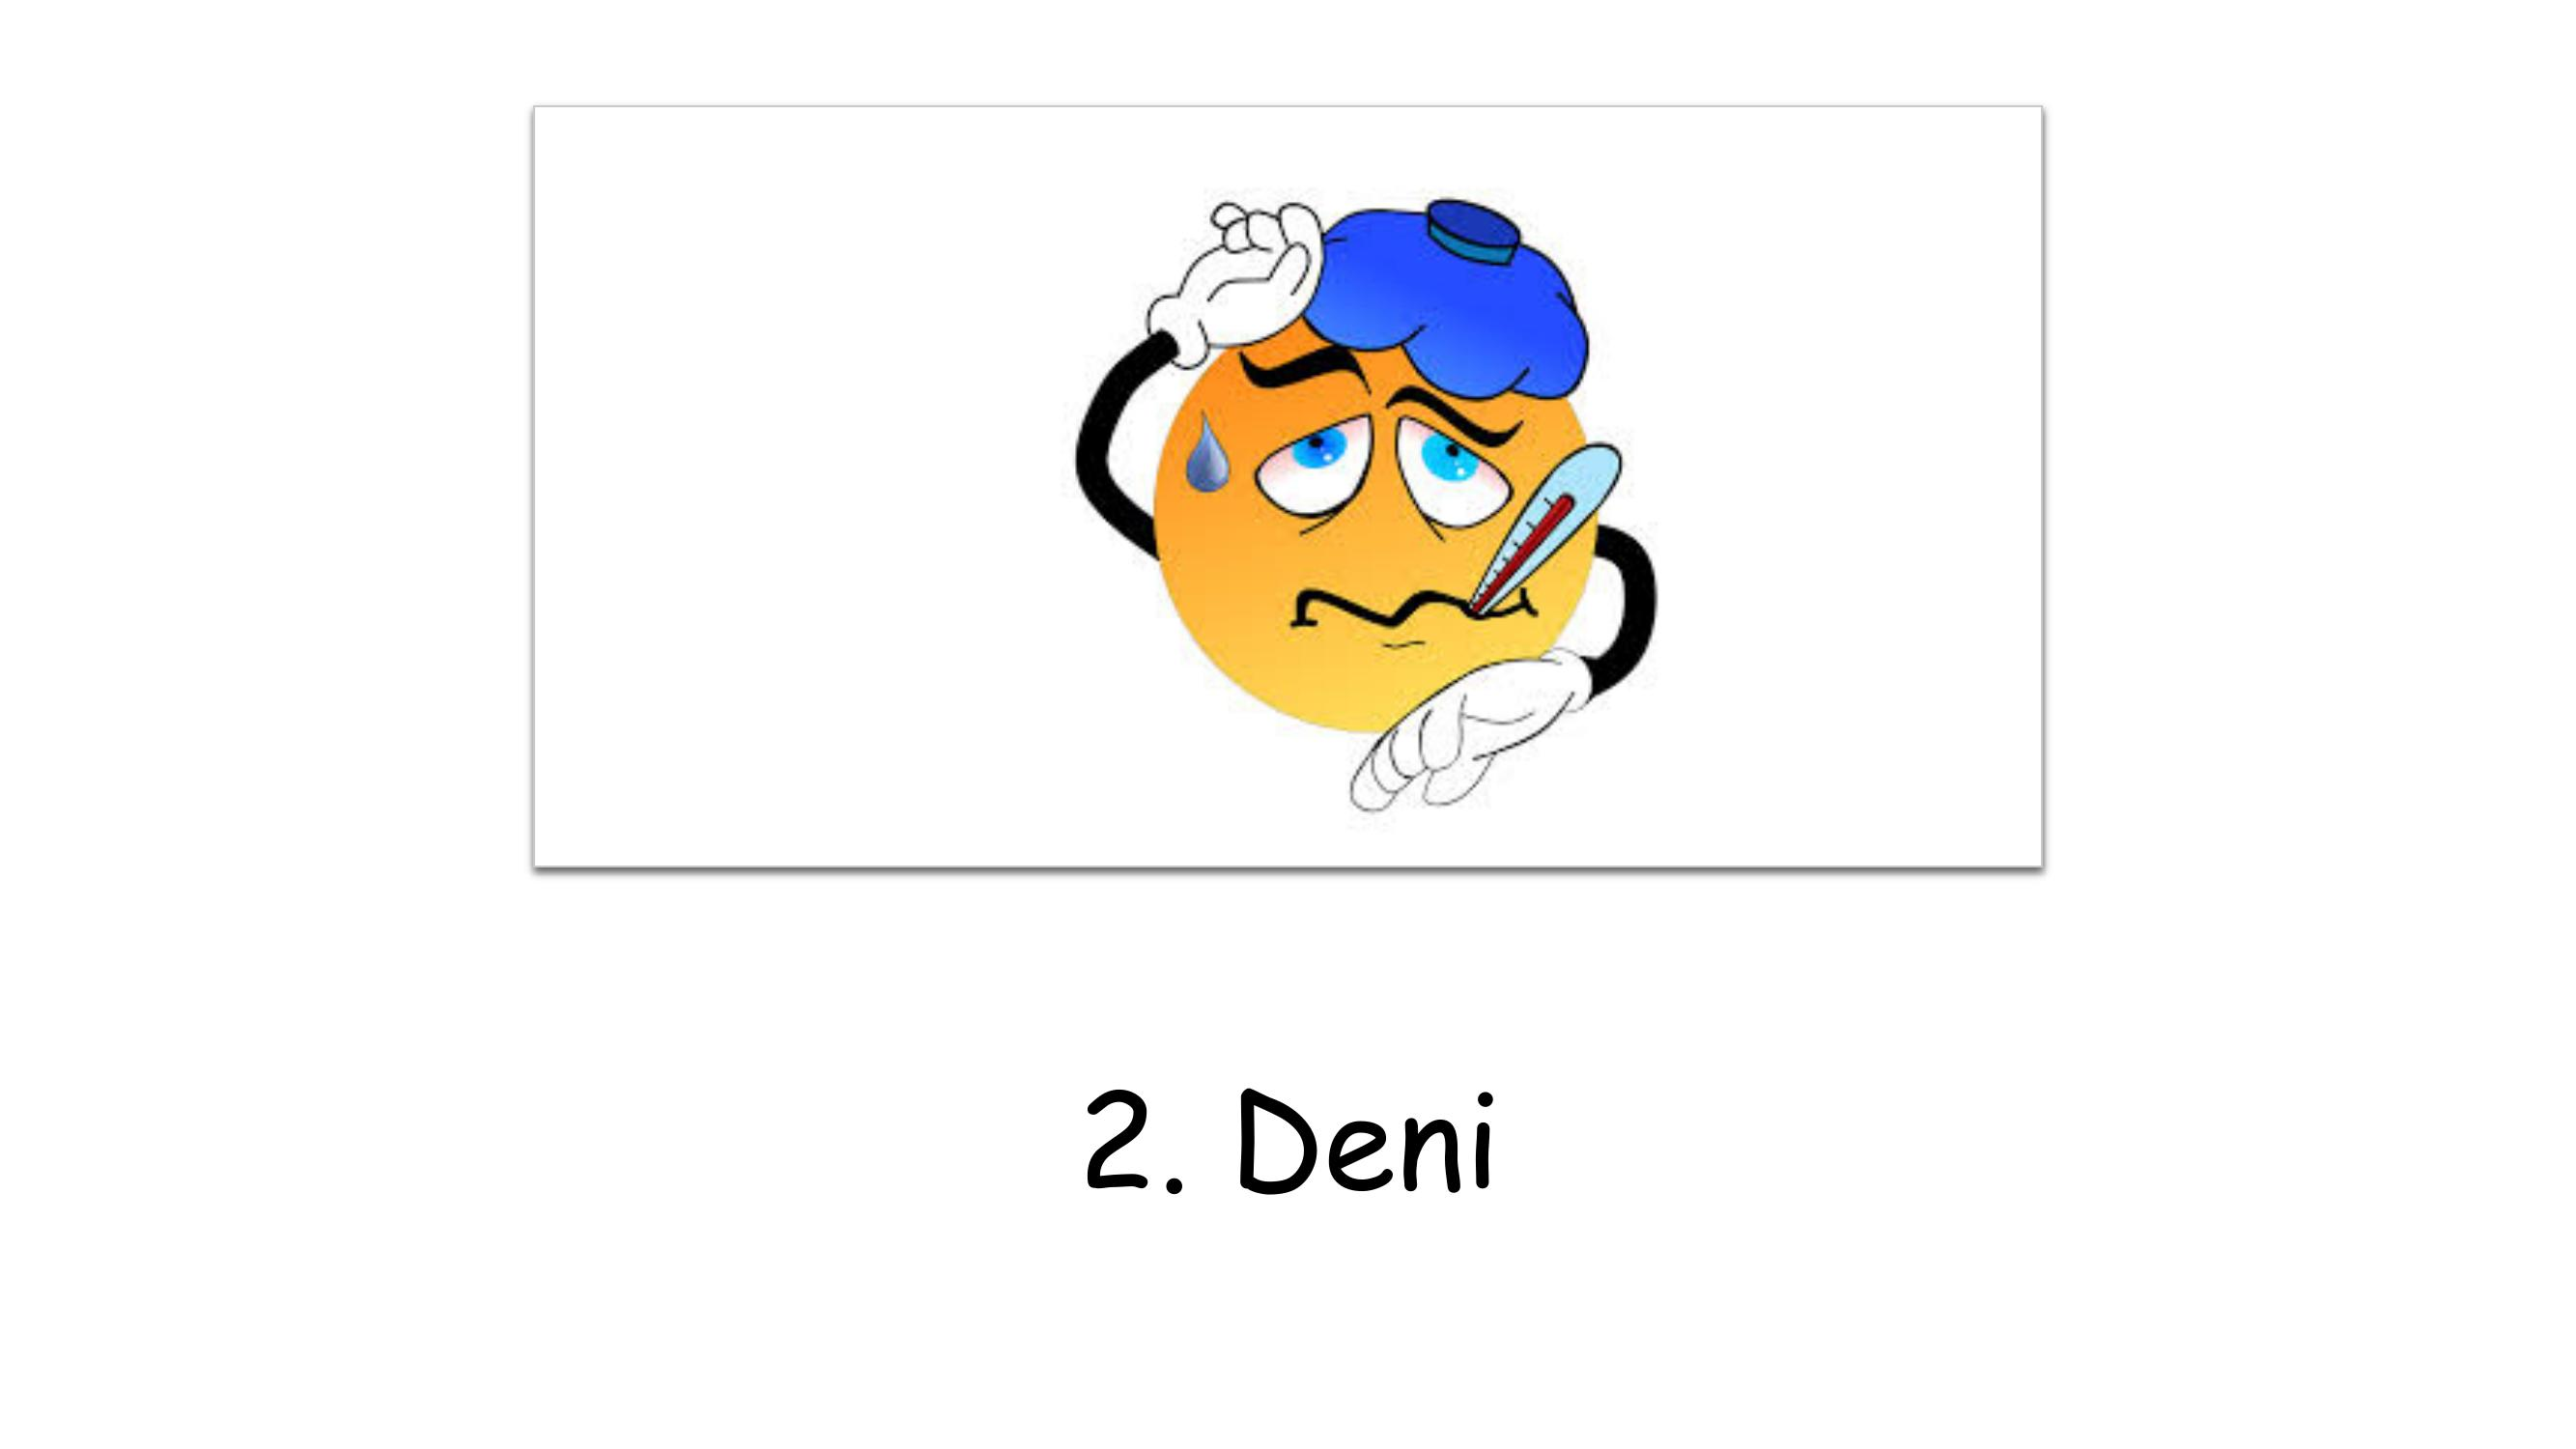text: (1058, 1035, 1539, 1224)
